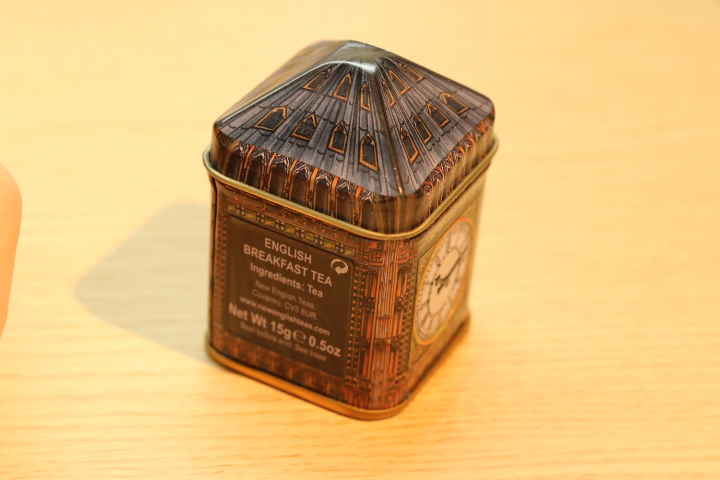Big Ben: (180, 25, 511, 433)
